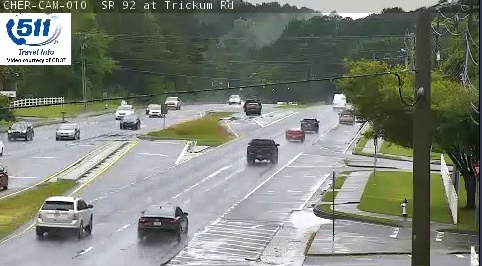car: (37, 196, 93, 230), (138, 205, 188, 233), (246, 139, 277, 162), (300, 117, 319, 132), (285, 127, 305, 141)
